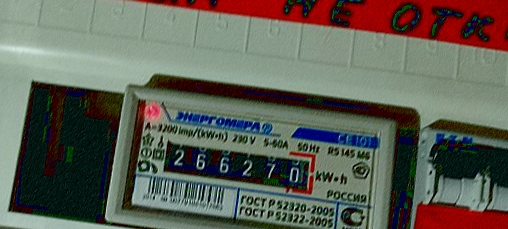0: (285, 163, 299, 184)
2: (169, 145, 186, 167), (238, 156, 253, 178)
6: (192, 150, 206, 171), (216, 153, 230, 174)
7: (261, 159, 276, 180)
screen: (147, 125, 326, 204)
